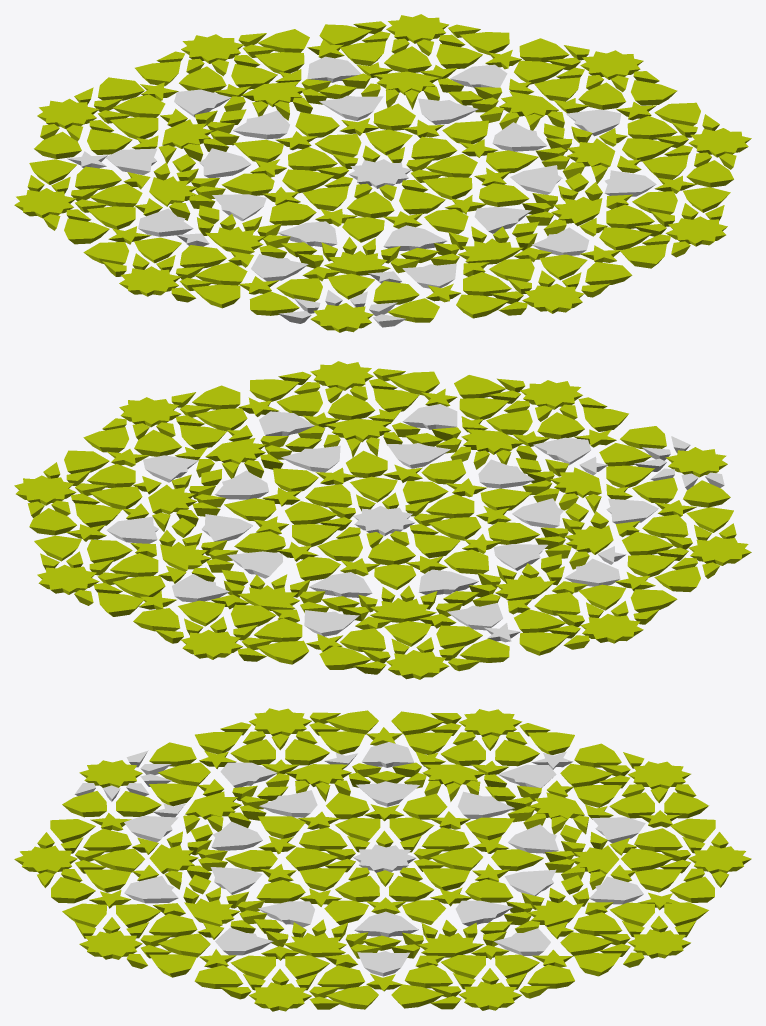
Rendered from ZelligeRound3.fbx.
3 views of the same model, one above another, from view 1: azimuth 30°, elevation 25°; view 2: azimuth 150°, elevation 25°; view 3: azimuth 270°, elevation 25° (orthographic).
Parts seen in each view (by area): view 1: Curve.176, Curve.035, Curve.136, Curve.049, Curve.139, Curve.063, Curve.142, Curve.006, Curve.066, Curve.072, Curve.069, Curve.283 (+99 smaller); view 2: Curve.142, Curve.072, Curve.139, Curve.136, Curve.069, Curve.063, Curve.006, Curve.066, Curve.049, Curve.176, Curve.035, Curve.097 (+99 smaller); view 3: Curve.066, Curve.063, Curve.069, Curve.049, Curve.072, Curve.006, Curve.035, Curve.136, Curve.176, Curve.142, Curve.139, Curve.111 (+99 smaller).
Boxes of the visible parts, x1,y1,x2,y2 form: Curve.176: [310, 303, 373, 332]; Curve.035: [522, 283, 584, 313]; Curve.136: [119, 266, 181, 296]; Curve.049: [665, 216, 727, 246]; Curve.139: [14, 188, 76, 218]; Curve.063: [688, 128, 751, 157]; Curve.142: [37, 98, 99, 128]; Curve.006: [349, 159, 411, 188]; Curve.066: [580, 50, 643, 79]; Curve.072: [181, 34, 243, 63]; Curve.069: [386, 14, 448, 43]; Curve.283: [324, 250, 390, 275]; Curve.142: [386, 650, 449, 679]; Curve.072: [181, 629, 242, 659]; Curve.139: [580, 614, 643, 643]; Curve.136: [688, 536, 751, 565]; Curve.069: [37, 564, 99, 594]; Curve.063: [119, 397, 180, 427]; Curve.006: [353, 506, 414, 535]; Curve.066: [14, 475, 76, 505]; Curve.049: [310, 361, 373, 390]; Curve.176: [665, 447, 727, 477]; Curve.035: [520, 380, 582, 409]; Curve.097: [309, 572, 372, 597]; Curve.066: [458, 981, 521, 1010]; Curve.063: [249, 982, 311, 1011]; Curve.069: [627, 929, 690, 958]; Curve.049: [79, 930, 142, 959]; Curve.072: [688, 845, 751, 873]; Curve.006: [353, 844, 416, 872]; Curve.035: [14, 845, 77, 873]; Curve.136: [249, 708, 311, 736]; Curve.176: [79, 760, 142, 787]; Curve.142: [628, 761, 690, 789]; Curve.139: [459, 709, 521, 736]; Curve.111: [354, 911, 418, 937].
Bounding box in the file's own units: 2.21 × 0.0328 × 2.29.
